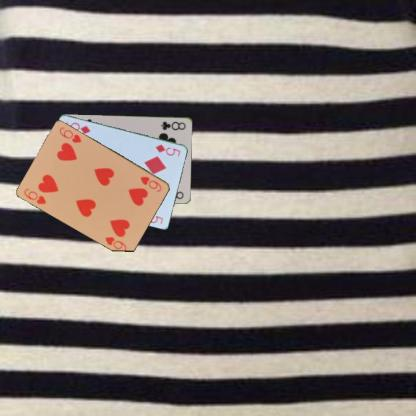5d: (153, 142, 182, 158)
6h: (22, 186, 48, 206), (138, 173, 163, 193)
8c: (158, 119, 187, 131)
